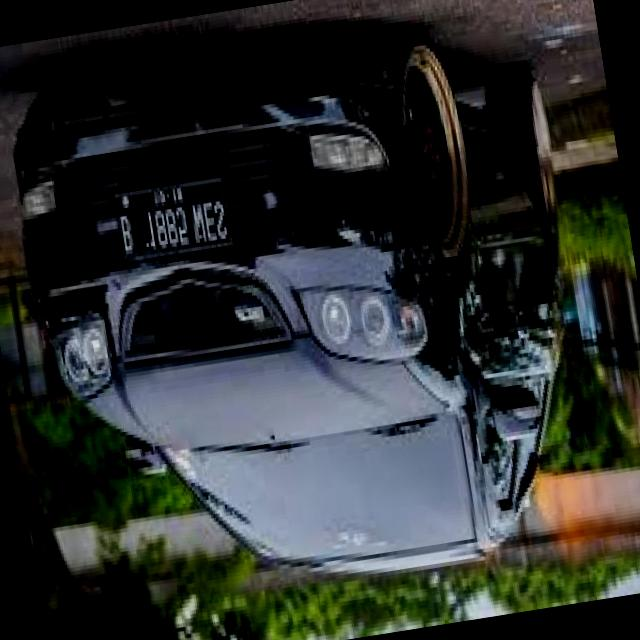ToyotaVios: (0, 0, 615, 625)
